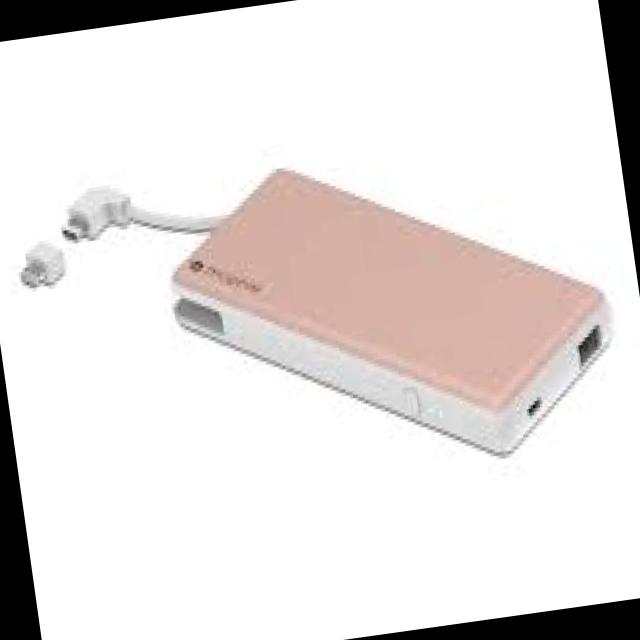portable-charger: (148, 117, 640, 515)
